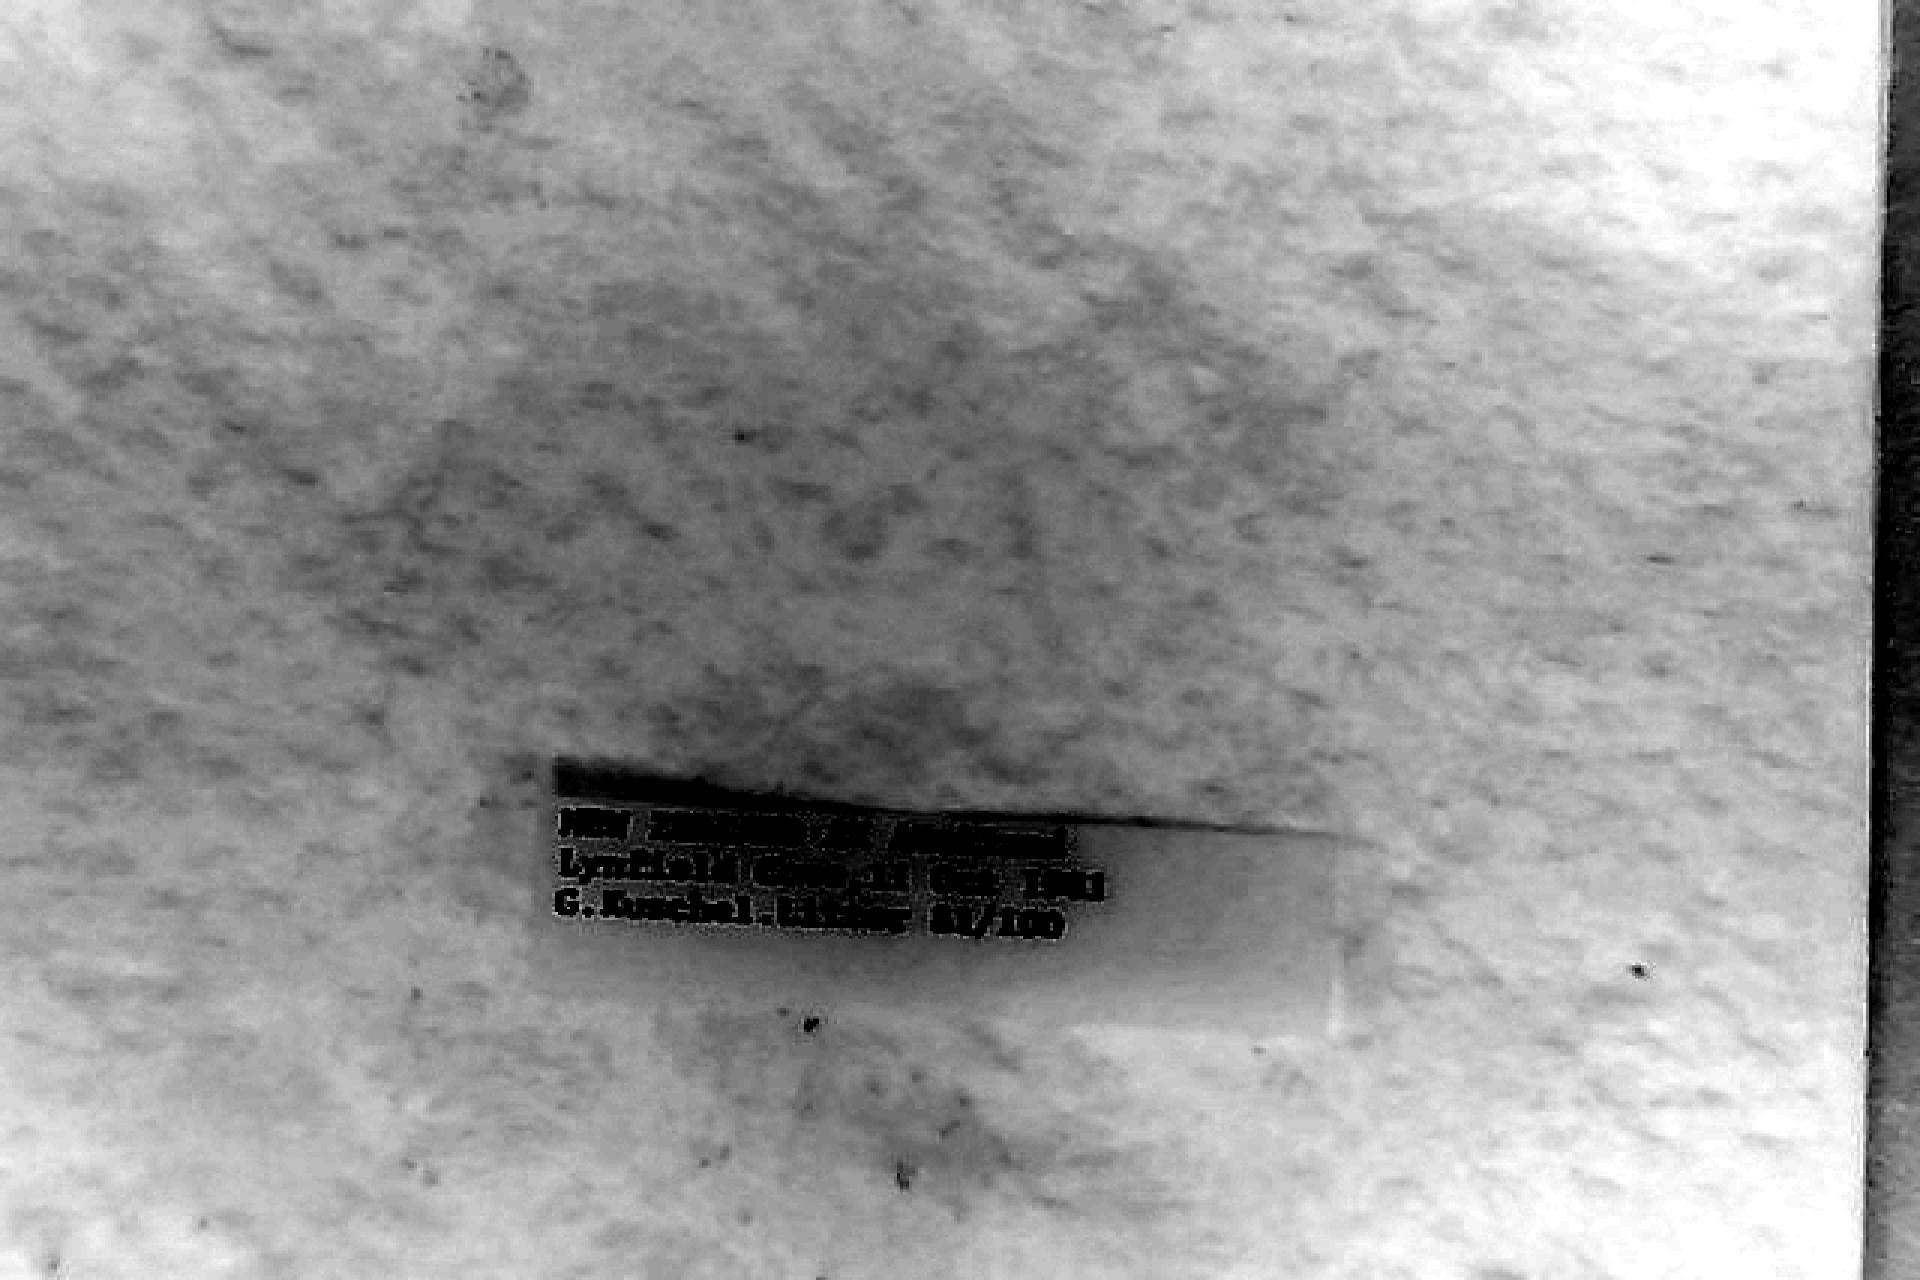typed_label: (544, 793, 1331, 1029)
